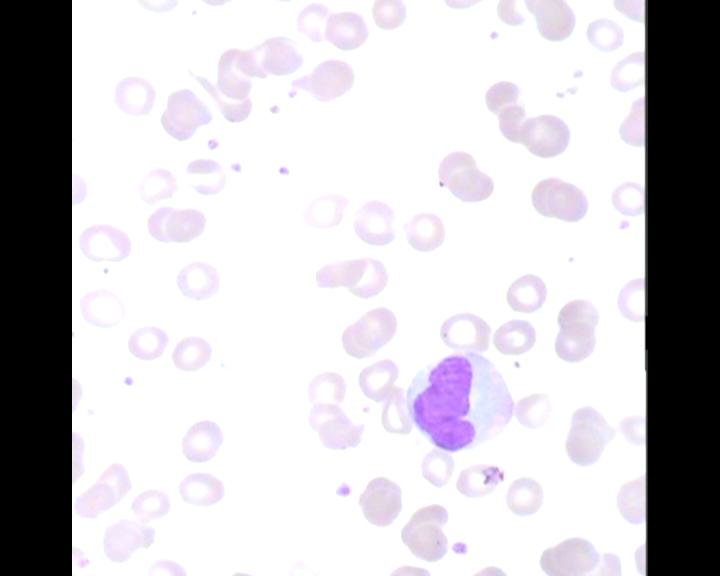mono: (407, 344, 519, 453)
